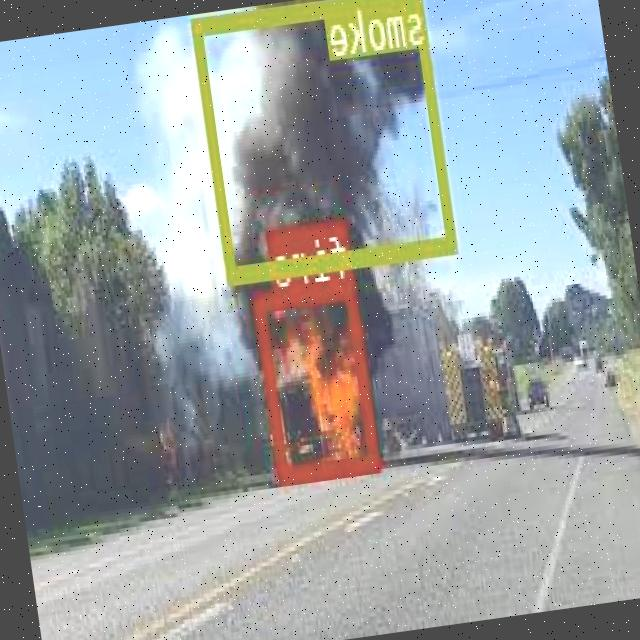fire: (256, 279, 382, 482)
smoke: (193, 0, 458, 281)
